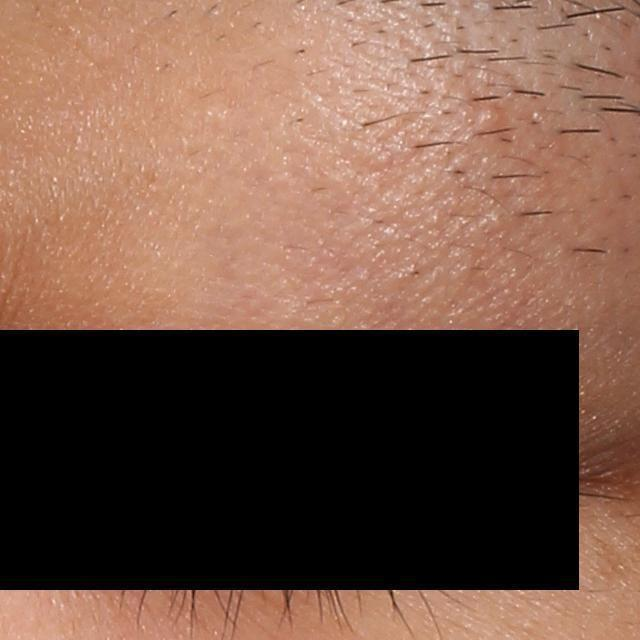comedo: (475, 104, 499, 128)
melasma: (589, 536, 631, 586)
